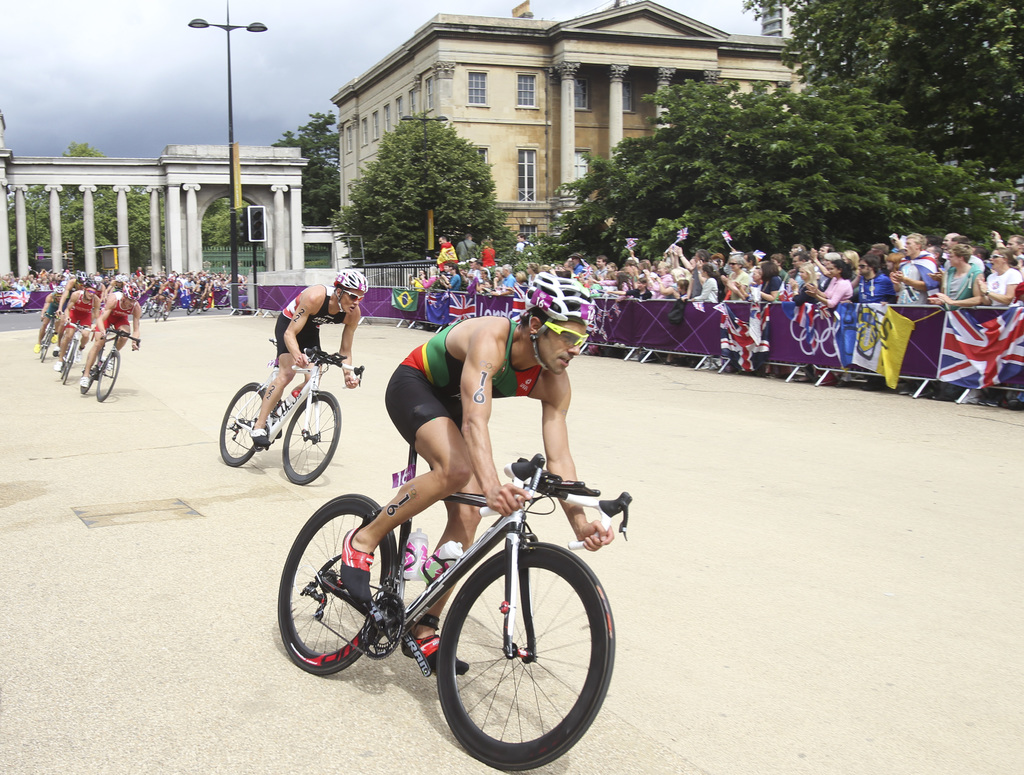Bike: (238, 439, 654, 768)
